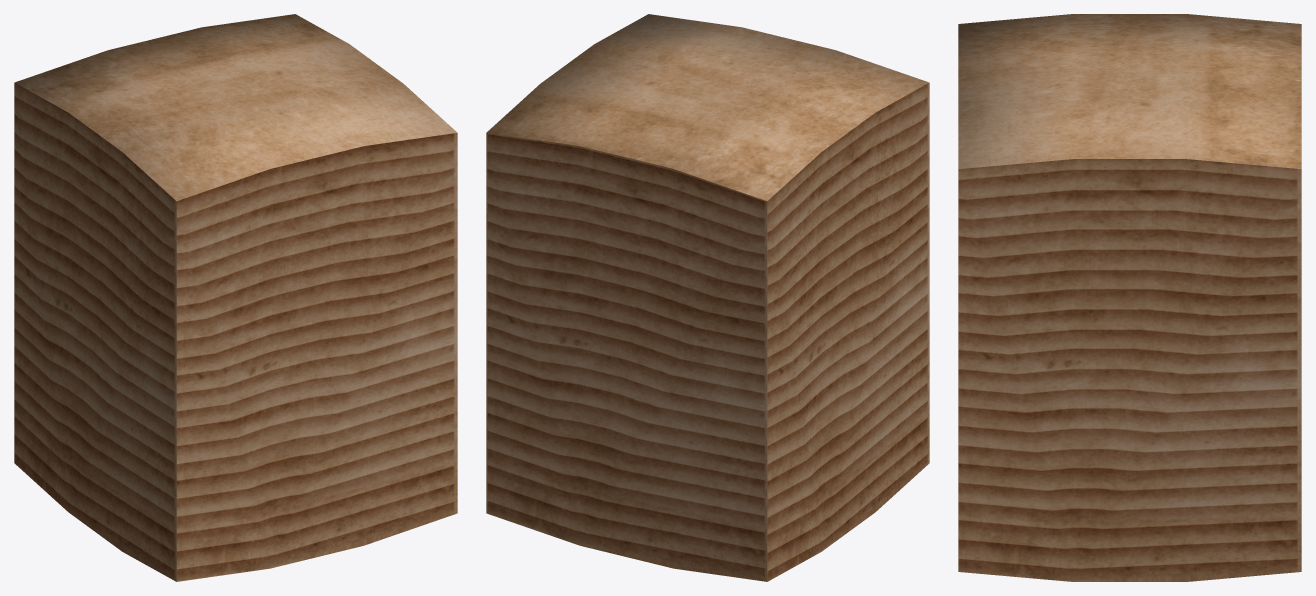
Rendered from Wads.fbx.
3 views of the same model, side by side, from view 1: azimuth 30°, elevation 25°; view 2: azimuth 150°, elevation 25°; view 3: azimuth 270°, elevation 25° (orthographic). The views are drawn at different scales.
Visible parts, largest first — view 1: Wads; view 2: Wads; view 3: Wads.
Part boxes in pixels (x1,y1,x2,y2): Wads: [14, 14, 457, 581]; Wads: [486, 14, 929, 581]; Wads: [958, 14, 1301, 581].
Bounding box in the file's own units: 0.038 × 0.038 × 0.0537.
